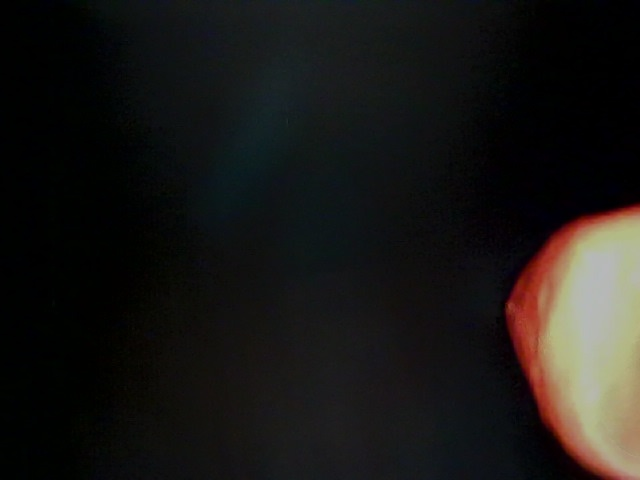KHSLJ: (164, 21, 640, 381)
